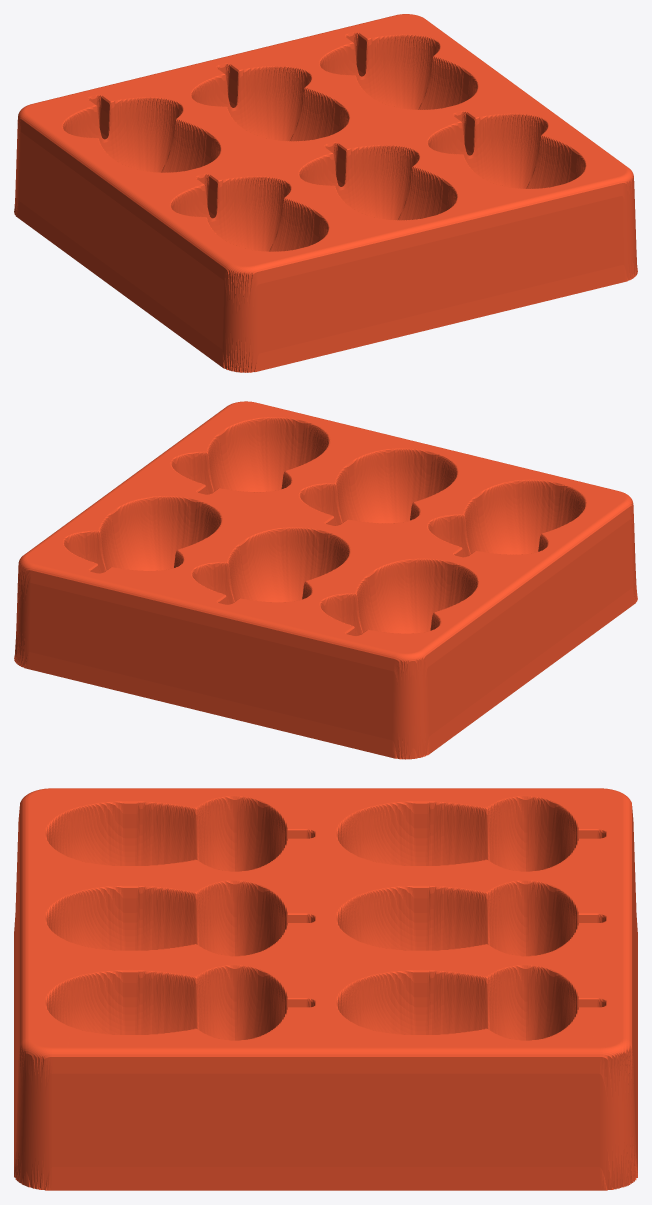
File: mold.glb
The picture shows the model from 3 angles, top to bottom: view 1: azimuth 30°, elevation 25°; view 2: azimuth 150°, elevation 25°; view 3: azimuth 270°, elevation 25°; orthographic projection. The views are drawn at different scales.
Parts seen in each view (by area): view 1: geometry_0; view 2: geometry_0; view 3: geometry_0.
Boxes of the visible parts, x1,y1,x2,y2 form: geometry_0: [14, 14, 637, 372]; geometry_0: [14, 401, 637, 759]; geometry_0: [14, 788, 637, 1190].
Size of the model in its own units: 0.1535 by 0.036 by 0.1492.
